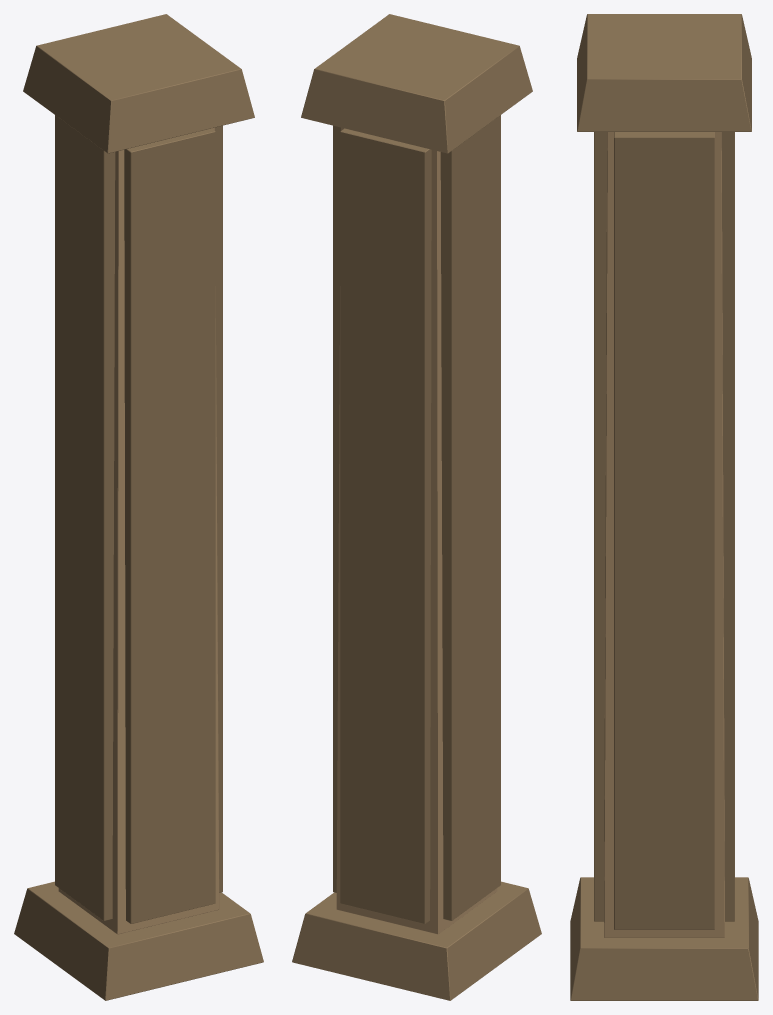
Rendered from BD_pillar.fbx.
3 views of the same model, side by side, from view 1: azimuth 30°, elevation 25°; view 2: azimuth 150°, elevation 25°; view 3: azimuth 270°, elevation 25° (orthographic). The views are drawn at different scales.
Parts seen in each view (by area): view 1: BD_pillar.001; view 2: BD_pillar.001; view 3: BD_pillar.001.
Part boxes in pixels (x1=…): BD_pillar.001: x1=14, y1=14, x2=263, y2=1000; BD_pillar.001: x1=292, y1=14, x2=541, y2=1000; BD_pillar.001: x1=570, y1=14, x2=758, y2=1000.
Size of the model in its own units: 0.5594 by 3 by 0.5594.
